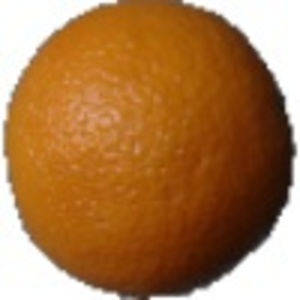laranja: (3, 2, 298, 299)
